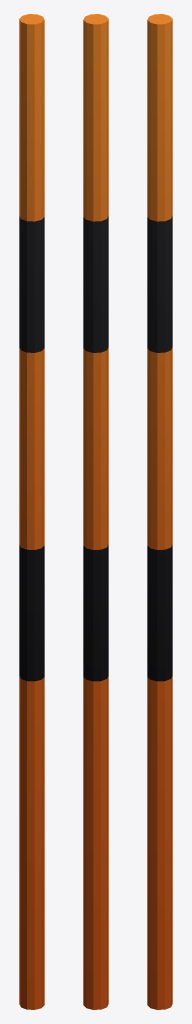
File: Snow_Pole.fbx
3 renders of one model, left to right at view 1: azimuth 30°, elevation 25°; view 2: azimuth 150°, elevation 25°; view 3: azimuth 330°, elevation 25°, orthographic.
Visible parts, largest first — view 1: Snow_Pole_LOD0; view 2: Snow_Pole_LOD0; view 3: Snow_Pole_LOD0.
Part boxes in pixels (bbox=[...]): Snow_Pole_LOD0: bbox=[19, 14, 44, 1009]; Snow_Pole_LOD0: bbox=[83, 14, 108, 1009]; Snow_Pole_LOD0: bbox=[147, 14, 172, 1009].
Size of what is drawn, in the model's own units: 0.07 by 3 by 0.0666.
1 material, 1 textured.
